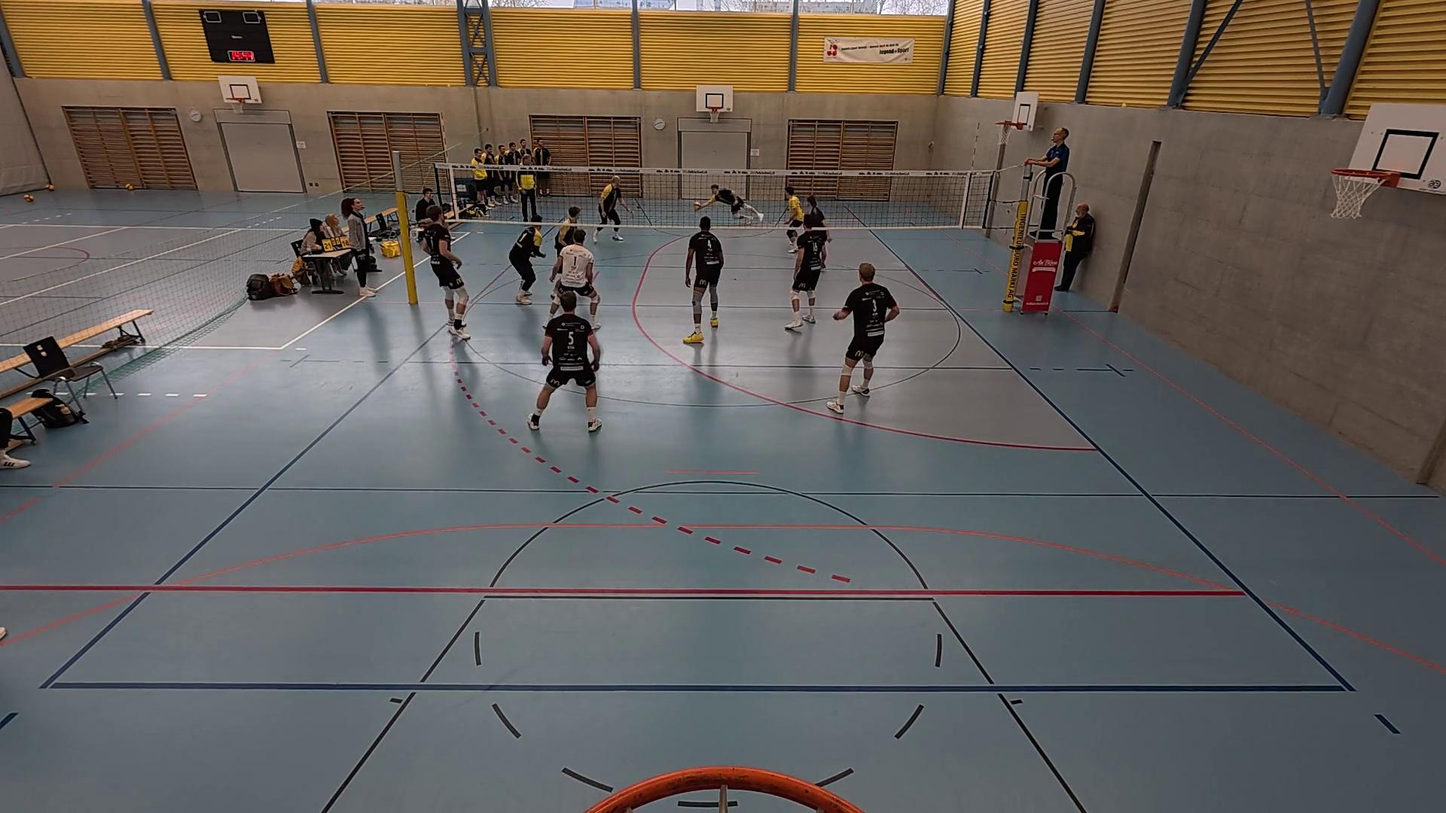Dig: (691, 183, 765, 225)
Player: (529, 291, 602, 433), (831, 262, 899, 410), (419, 201, 475, 342), (683, 215, 725, 343), (784, 216, 827, 332), (551, 229, 601, 321), (508, 216, 548, 306), (800, 192, 829, 262), (596, 180, 627, 241), (782, 186, 806, 251), (555, 204, 584, 250)
ball: (694, 197, 702, 212)
